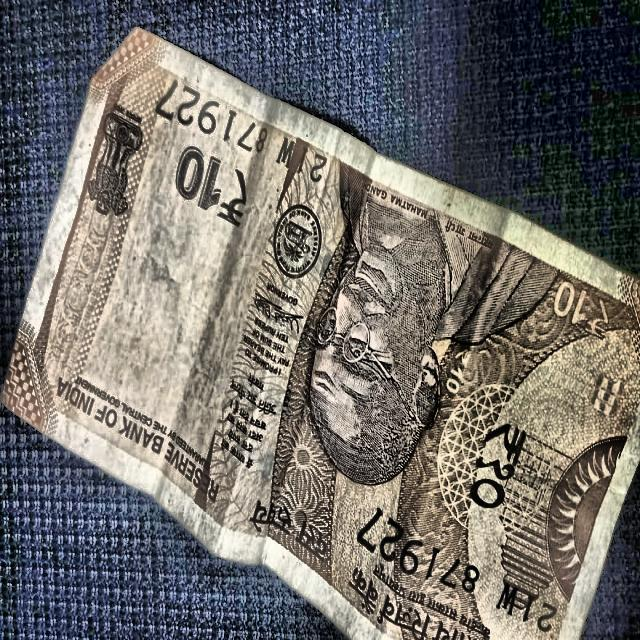-10-: (13, 18, 638, 624)
